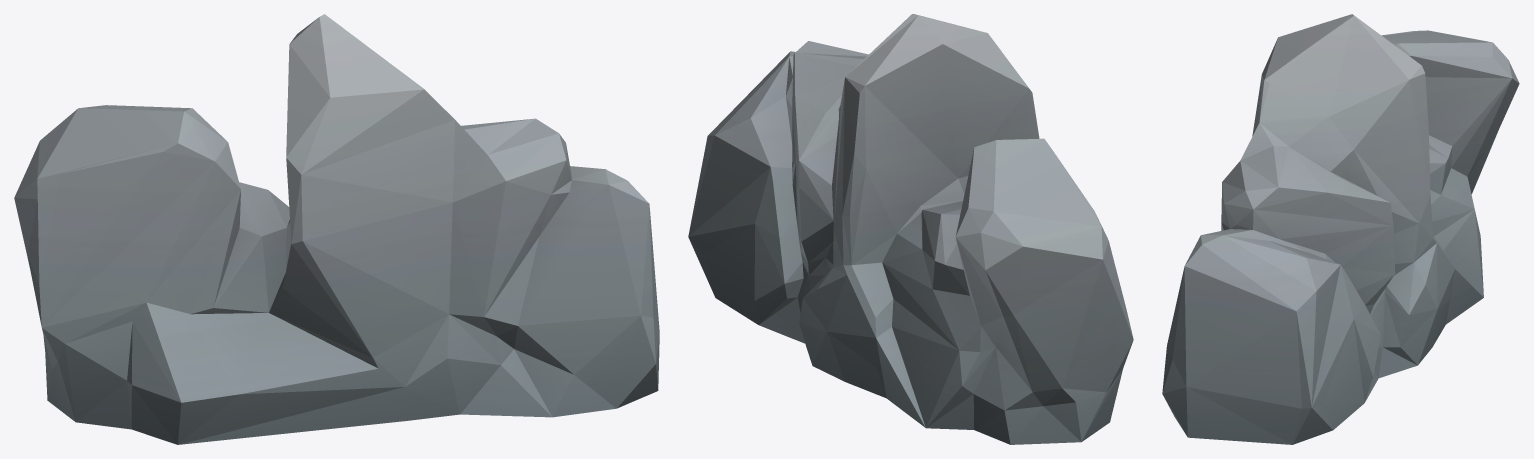
File: cliff_b.glb
3 renders of one model, left to right at view 1: azimuth 30°, elevation 25°; view 2: azimuth 150°, elevation 25°; view 3: azimuth 270°, elevation 25°, orthographic. The views are drawn at different scales.
Visible parts, largest first — view 1: Rock_Formation_3_1_A; view 2: Rock_Formation_3_1_A; view 3: Rock_Formation_3_1_A.
Part boxes in pixels (bbox=[...]): Rock_Formation_3_1_A: bbox=[14, 14, 659, 444]; Rock_Formation_3_1_A: bbox=[688, 14, 1133, 444]; Rock_Formation_3_1_A: bbox=[1162, 14, 1519, 444].
Size of the model in its own units: 6.59 by 4.41 by 4.46.
1 material, 1 textured.
